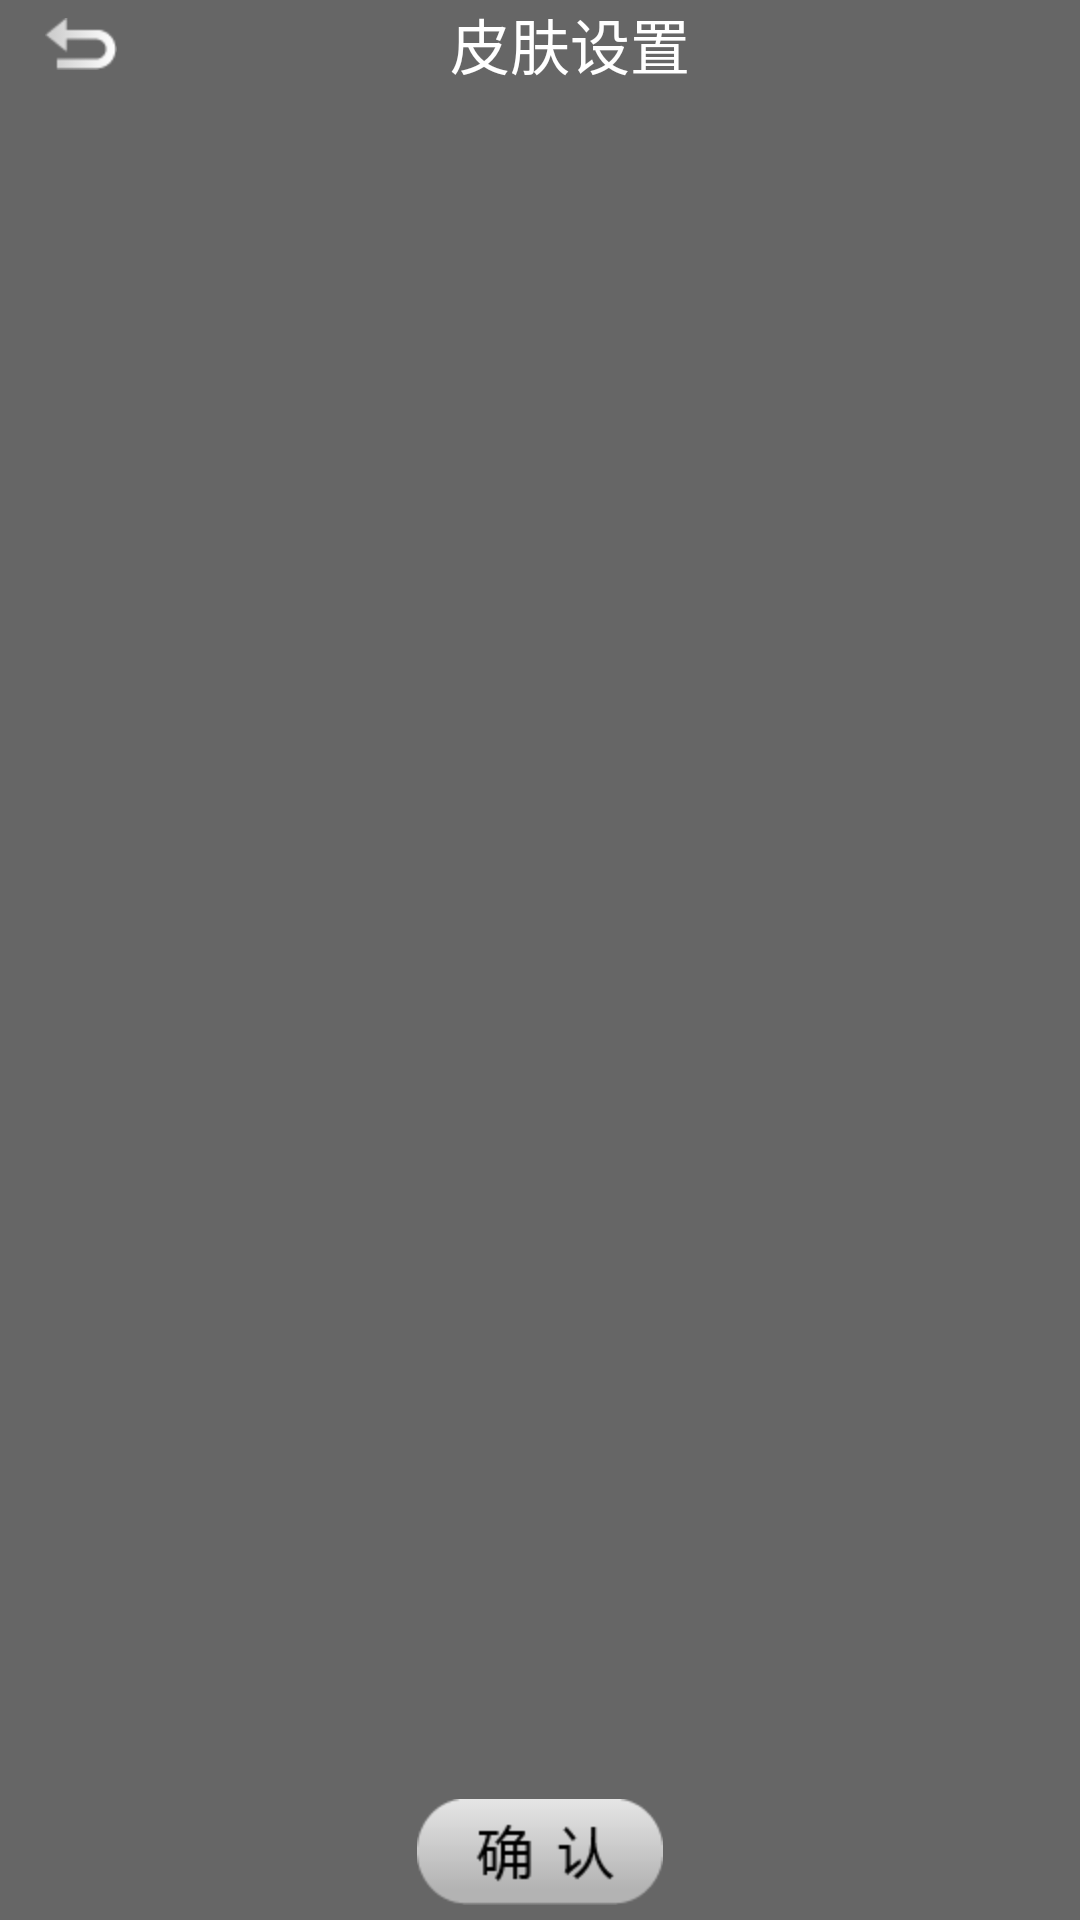

Icons on this 1080w x 1920h Android screen, each with its box as (x1,y1,x2,y2):
setting back: (46,18,117,70)
